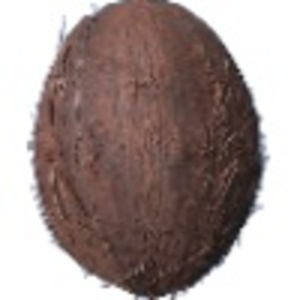coco: (32, 1, 269, 300)
